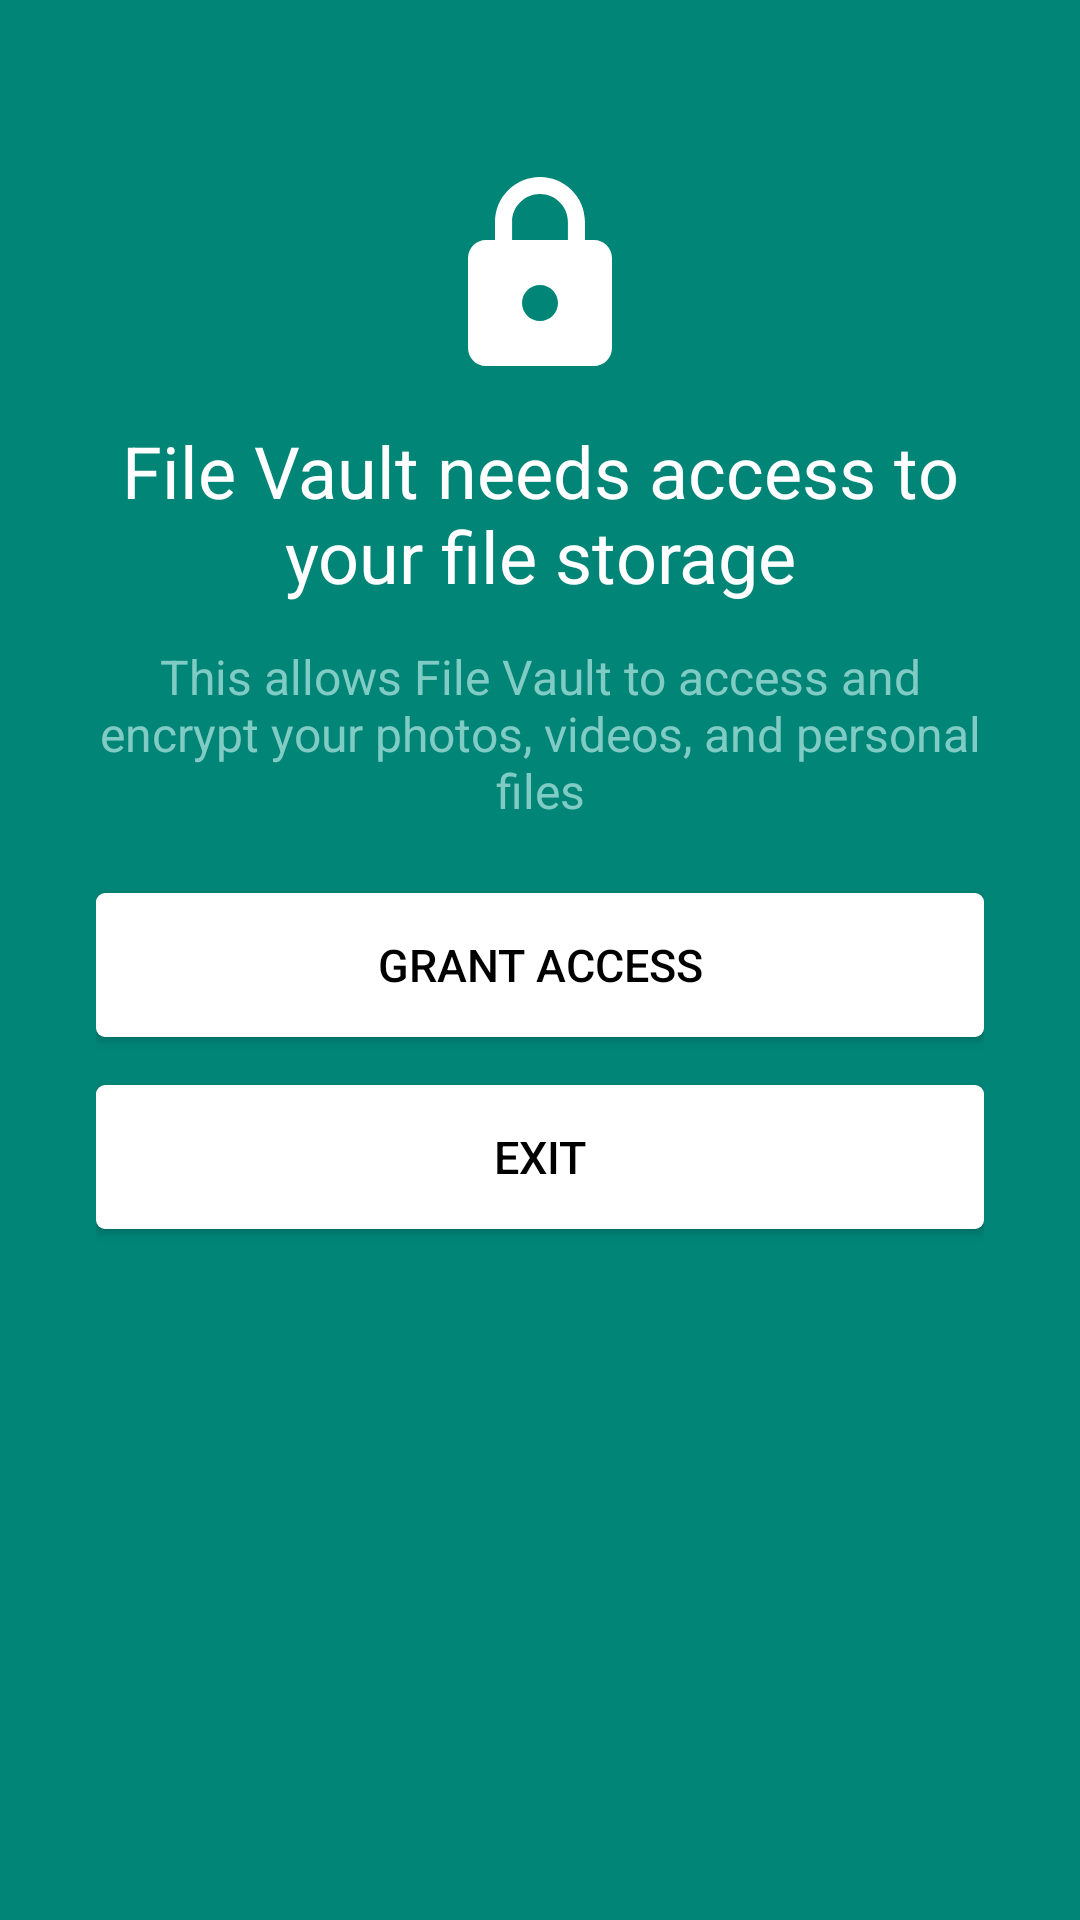

Icon bounding boxes for this 1080 × 1920 phone screenshot, format BBox(x1, y1, x2, y2):
lock: BBox(468, 177, 612, 366)
